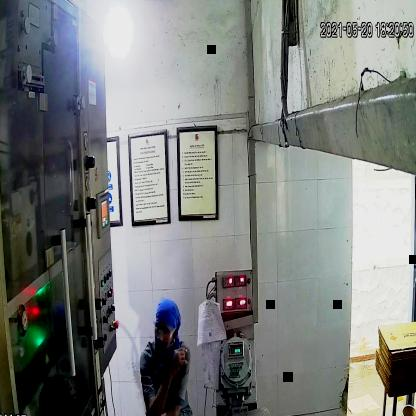goggles: (152, 317, 178, 342)
